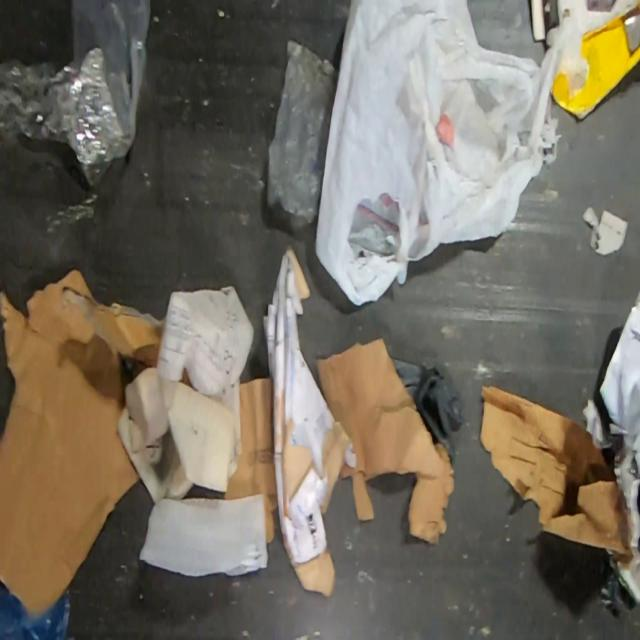cardboard: (0, 267, 163, 619), (262, 246, 358, 599), (115, 367, 238, 505), (552, 15, 640, 122)
soft_plastic: (313, 0, 639, 310), (0, 0, 153, 192), (266, 38, 339, 233), (137, 491, 270, 579), (412, 365, 466, 460), (0, 580, 73, 639)
